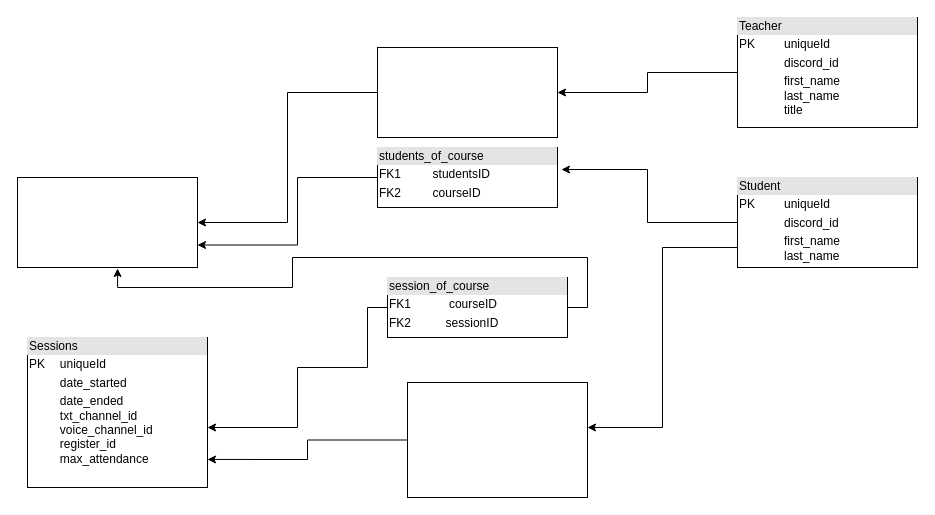
Image size: 935x515. Some labels were removed from this diagram. The box of each missing label's shape, as (x1, y1, x2, y2) in pixels:
Course PK uniqueId short_name full_name: (16, 176, 198, 268)
membership_of_session FK1 studentsID FK2 sessionID attendance(bool): (406, 382, 588, 498)
teachers_of_course FK1 teacherID FK2 courseID: (376, 46, 558, 138)
